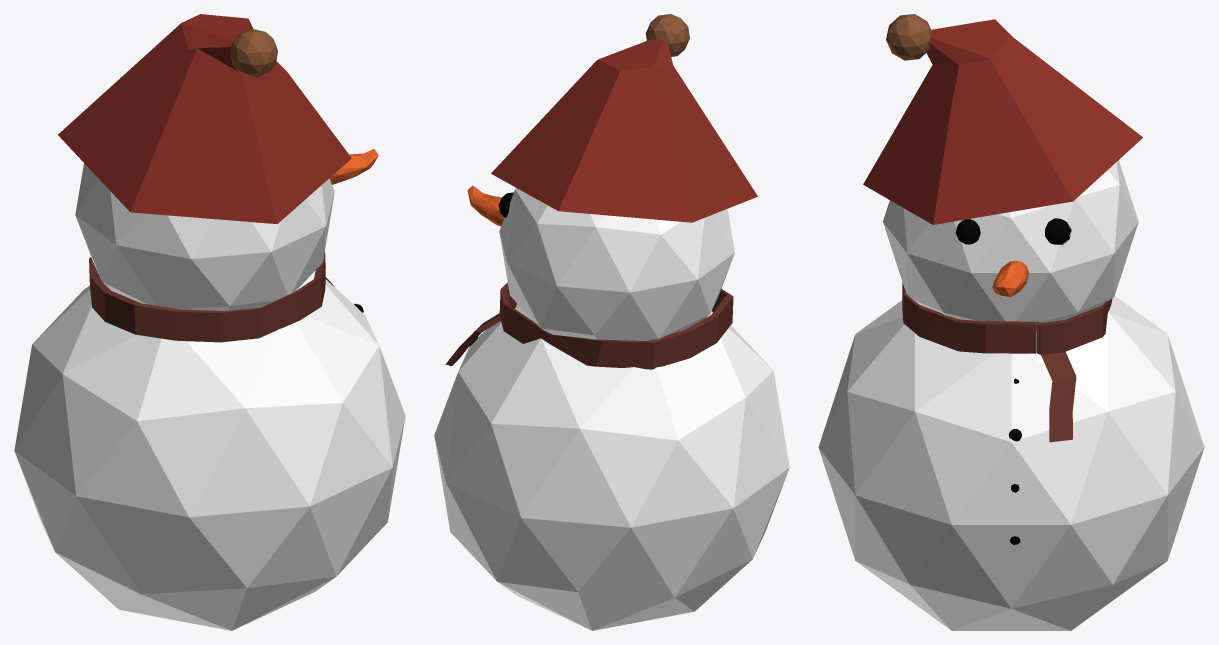
The model's file is snowman.fbx.
3 renders of one model, left to right at view 1: azimuth 30°, elevation 25°; view 2: azimuth 150°, elevation 25°; view 3: azimuth 270°, elevation 25°, orthographic. The views are drawn at different scales.
Visible parts, largest first — view 1: Icosphere, Cone, Icosphere.001, Plane.001, Icosphere.009, Icosphere.004; view 2: Icosphere, Cone, Icosphere.001, Plane.001, Icosphere.009, Icosphere.004; view 3: Icosphere, Cone, Icosphere.001, Plane.001, Icosphere.009, Icosphere.004, Icosphere.003.
Part boxes in pixels (x1,y1,x2,y2): Icosphere: [14, 270, 405, 630]; Cone: [58, 14, 351, 224]; Icosphere.001: [75, 163, 334, 311]; Plane.001: [89, 251, 334, 342]; Icosphere.009: [230, 28, 277, 77]; Icosphere.004: [329, 149, 378, 184]; Icosphere: [434, 303, 789, 630]; Cone: [491, 39, 757, 222]; Icosphere.001: [499, 188, 734, 340]; Plane.001: [445, 282, 733, 369]; Icosphere.009: [645, 14, 689, 56]; Icosphere.004: [467, 185, 504, 226]; Icosphere: [818, 296, 1204, 630]; Cone: [863, 19, 1142, 224]; Icosphere.001: [883, 160, 1138, 331]; Plane.001: [902, 282, 1112, 442]; Icosphere.009: [886, 14, 932, 60]; Icosphere.004: [992, 261, 1028, 296]; Icosphere.003: [1045, 218, 1071, 245].
Bounding box in the file's own units: 190 × 344 × 200.
